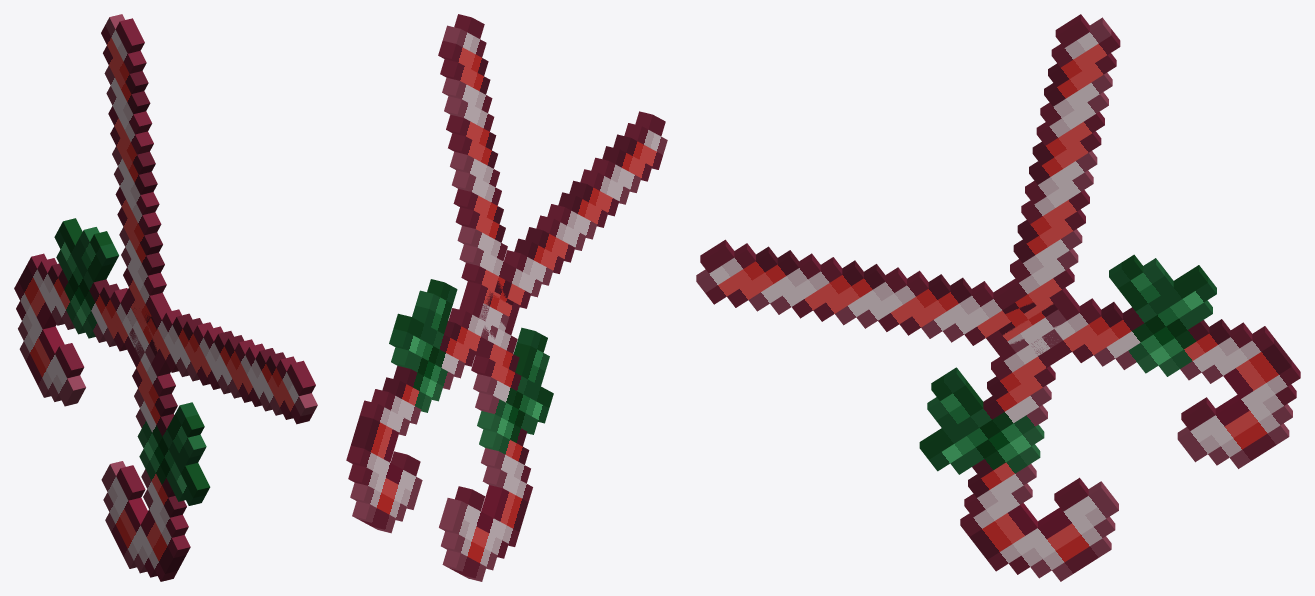
File: sweet_lance.glb
The picture shows the model from 3 angles, left to right: view 1: azimuth 30°, elevation 25°; view 2: azimuth 150°, elevation 25°; view 3: azimuth 270°, elevation 25°; orthographic projection. The views are drawn at different scales.
Visible parts, largest first — view 1: off__Tool_L, main__Tool_R; view 2: off__Tool_L, main__Tool_R; view 3: off__Tool_L, main__Tool_R.
Boxes of the visible parts, x1,y1,x2,y2 form: off__Tool_L: [101, 14, 210, 581]; main__Tool_R: [14, 218, 317, 424]; off__Tool_L: [438, 14, 553, 581]; main__Tool_R: [346, 111, 667, 533]; off__Tool_L: [919, 14, 1120, 581]; main__Tool_R: [696, 239, 1300, 468].
Size of the model in its own units: 0.0531 by 2.12 by 2.07.
1 material, 1 textured.
